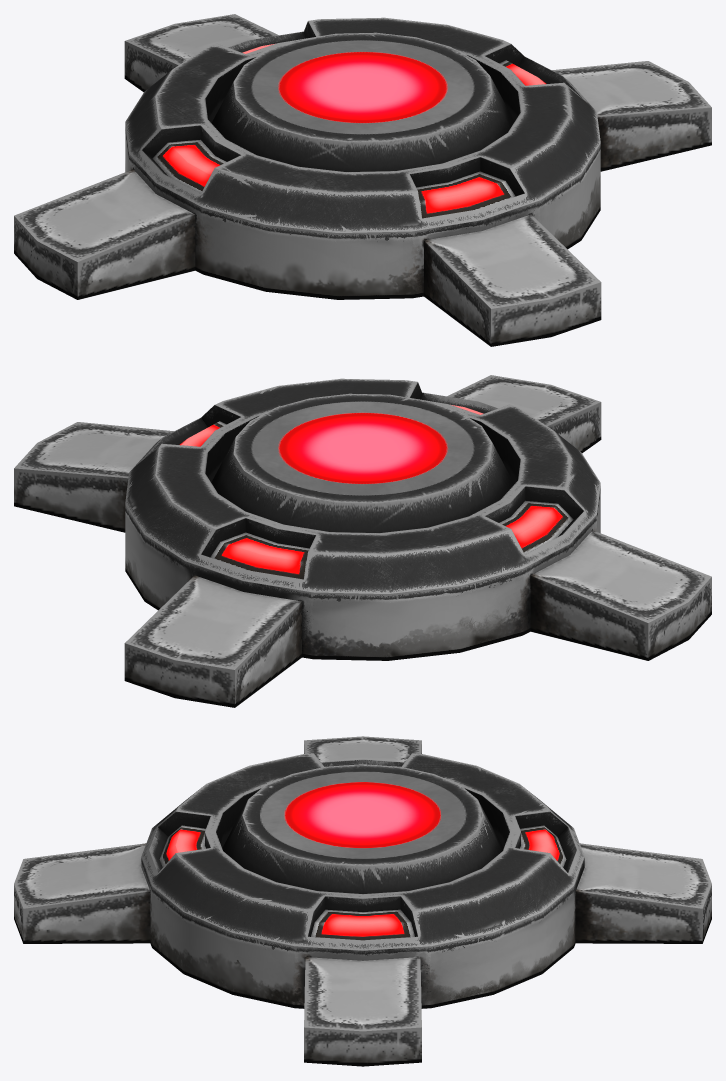
File: land_mine.glb
3 renders of one model, top to bottom at view 1: azimuth 30°, elevation 25°; view 2: azimuth 150°, elevation 25°; view 3: azimuth 270°, elevation 25°, orthographic. The views are drawn at different scales.
Parts seen in each view (by area): view 1: polySurface1; view 2: polySurface1; view 3: polySurface1.
Part boxes in pixels (bbox=[...]): polySurface1: bbox=[14, 14, 711, 346]; polySurface1: bbox=[14, 375, 711, 707]; polySurface1: bbox=[14, 736, 711, 1066].
Bounding box in the file's own units: 4.91 × 0.806 × 4.91.
Materials: 1 (1 with a texture image).
